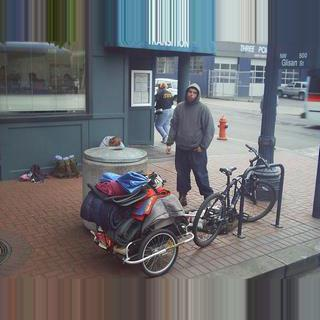Bike: (192, 143, 283, 248)
Car-Bike: (302, 74, 320, 127), (278, 81, 308, 100)
Person-Bike: (166, 83, 216, 211), (154, 82, 176, 146)
